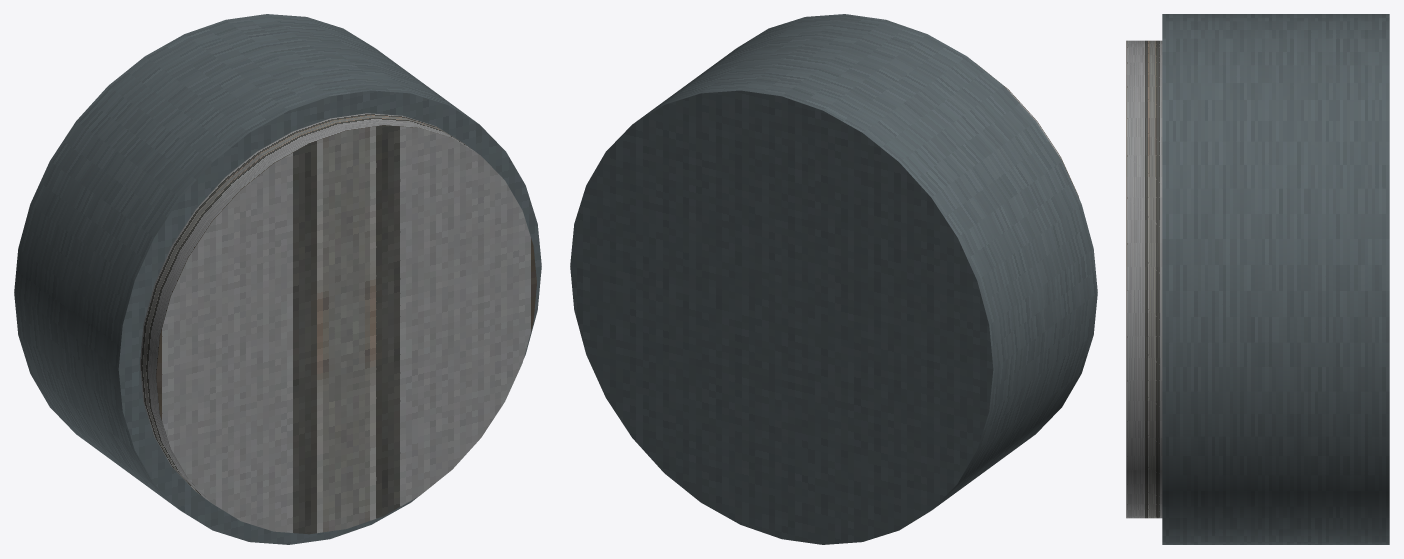
The model's file is mixer.glb.
3 renders of one model, left to right at view 1: azimuth 30°, elevation 25°; view 2: azimuth 150°, elevation 25°; view 3: azimuth 270°, elevation 25°, orthographic. The views are drawn at different scales.
Parts seen in each view (by area): view 1: face, rim; view 2: rim; view 3: rim, face.
Part boxes in pixels (x1,y1,x2,y2): face: (140,113,536,534); rim: (14,14,541,544); rim: (570,14,1097,544); rim: (1162,14,1389,544); face: (1126,40,1162,518).
Bounding box in the file's own units: 0.09 × 0.09 × 0.0445.
2 materials, 2 textured.
